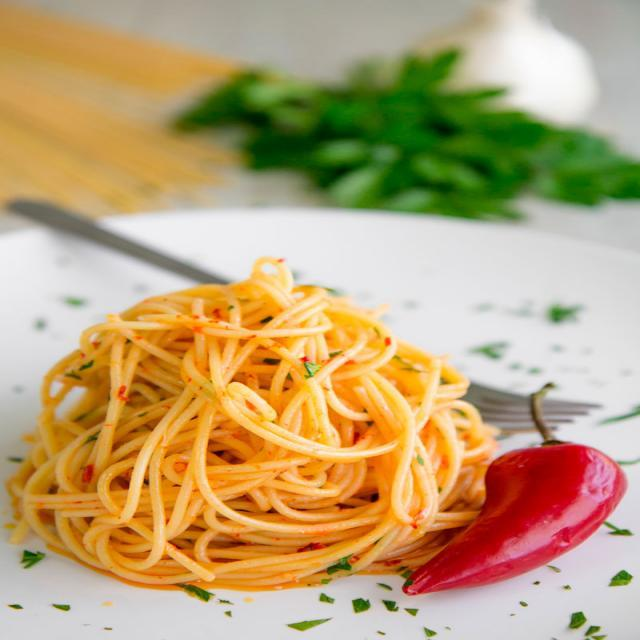Oil pasta: (17, 211, 640, 640)
